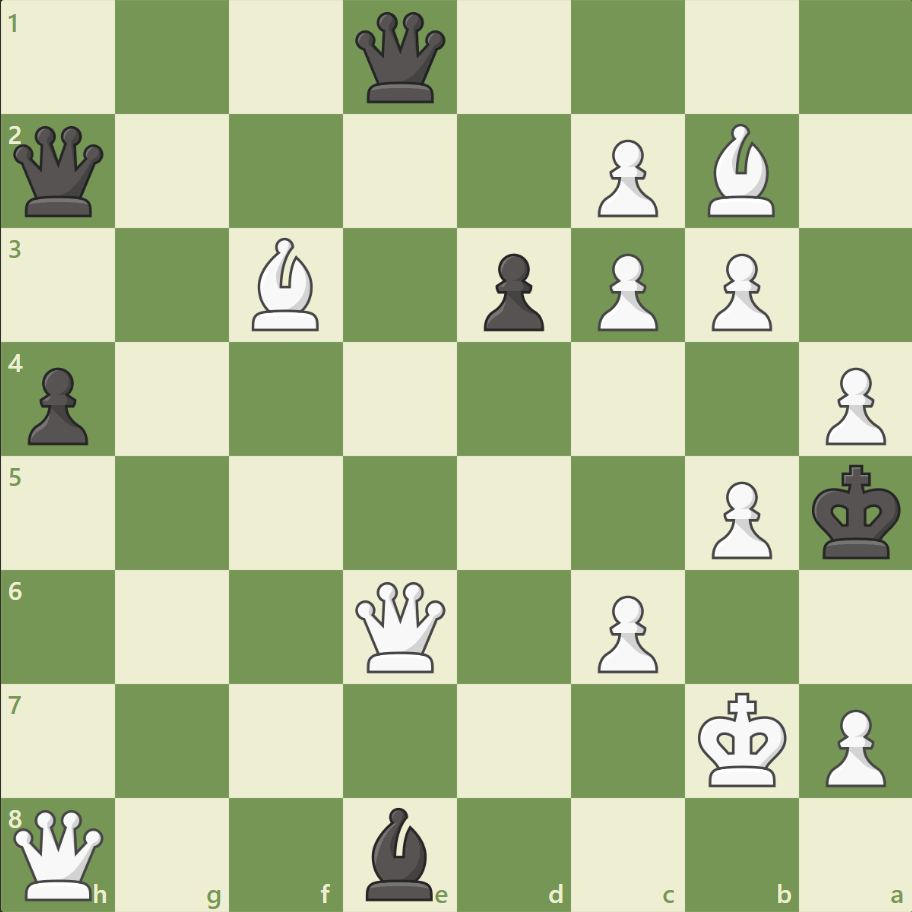B: (244, 233, 328, 336), (698, 120, 782, 222)
K: (692, 685, 792, 793)
P: (701, 473, 776, 564), (701, 246, 776, 337), (815, 700, 889, 791), (588, 586, 662, 677), (815, 359, 889, 450), (588, 246, 662, 337), (588, 132, 662, 223)
Q: (351, 576, 450, 676), (10, 804, 109, 903)
b: (358, 801, 442, 904)
k: (806, 458, 906, 566)
p: (20, 359, 95, 450), (474, 246, 549, 337)
q: (10, 122, 109, 222), (351, 9, 450, 108)
